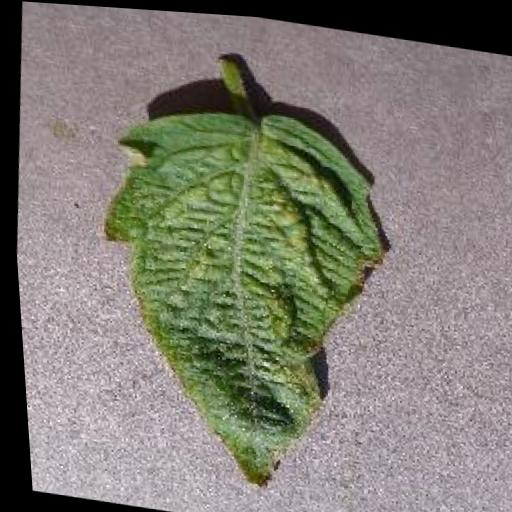Spider Mites: (70, 80, 404, 506)
